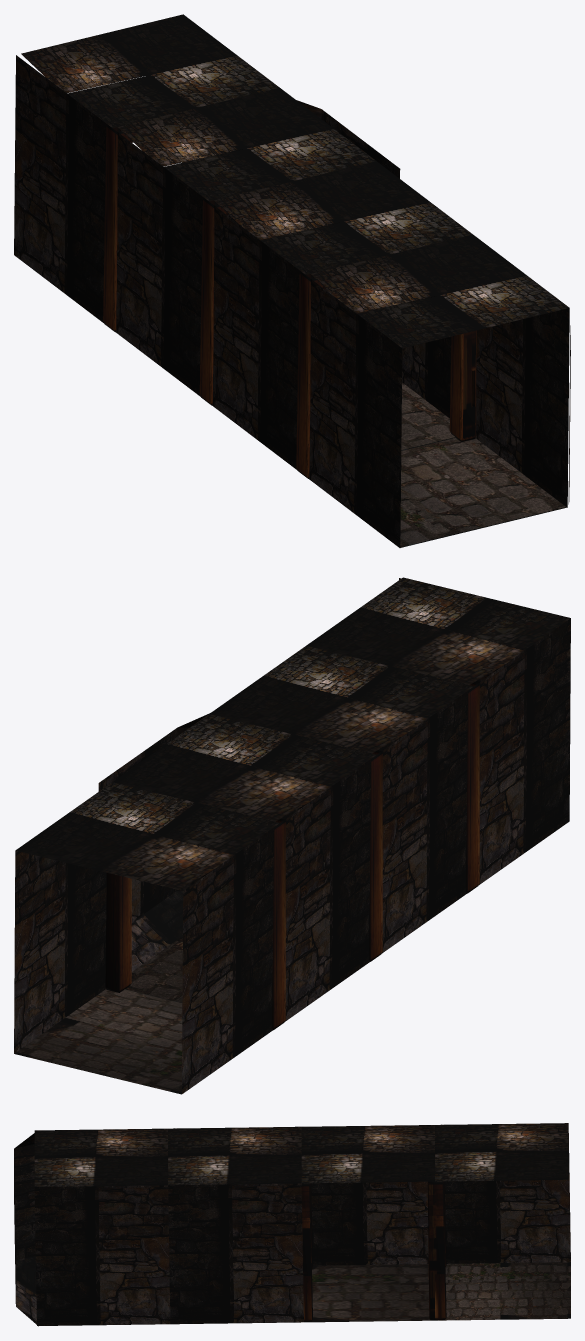
The model's file is corredor01.fbx.
3 renders of one model, top to bottom at view 1: azimuth 30°, elevation 25°; view 2: azimuth 150°, elevation 25°; view 3: azimuth 270°, elevation 25°, orthographic. The views are drawn at different scales.
Parts seen in each view (by area): view 1: castle_wall1, castle_teto1, castle_floor1, castle_viga1; view 2: castle_wall1, castle_teto1, castle_floor1, castle_viga1; view 3: castle_wall1, castle_teto1, castle_floor1, castle_viga1.
Boxes of the visible parts, left/top/right/bottom form: castle_wall1: left=14, top=55, right=570, bottom=547; castle_teto1: left=21, top=14, right=569, bottom=348; castle_floor1: left=400, top=382, right=566, bottom=547; castle_viga1: left=103, top=124, right=476, bottom=478; castle_wall1: left=14, top=578, right=570, bottom=1093; castle_teto1: left=15, top=577, right=570, bottom=889; castle_floor1: left=14, top=936, right=182, bottom=1094; castle_viga1: left=105, top=682, right=479, bottom=1030; castle_wall1: left=14, top=1123, right=570, bottom=1326; castle_teto1: left=34, top=1123, right=568, bottom=1186; castle_floor1: left=304, top=1262, right=570, bottom=1322; castle_viga1: left=161, top=1124, right=446, bottom=1321.
Size of the model in its own units: 235 by 242 by 834.
